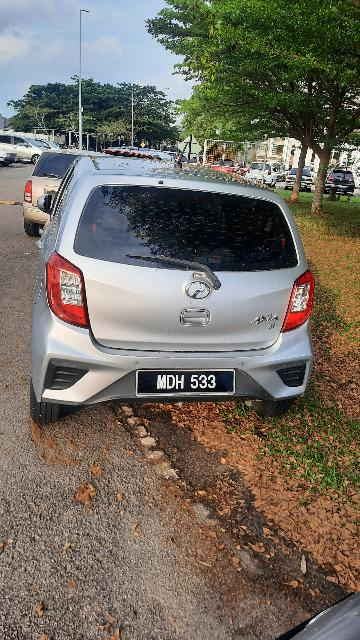License_Plate: (133, 367, 239, 398)
car: (25, 160, 321, 419)
